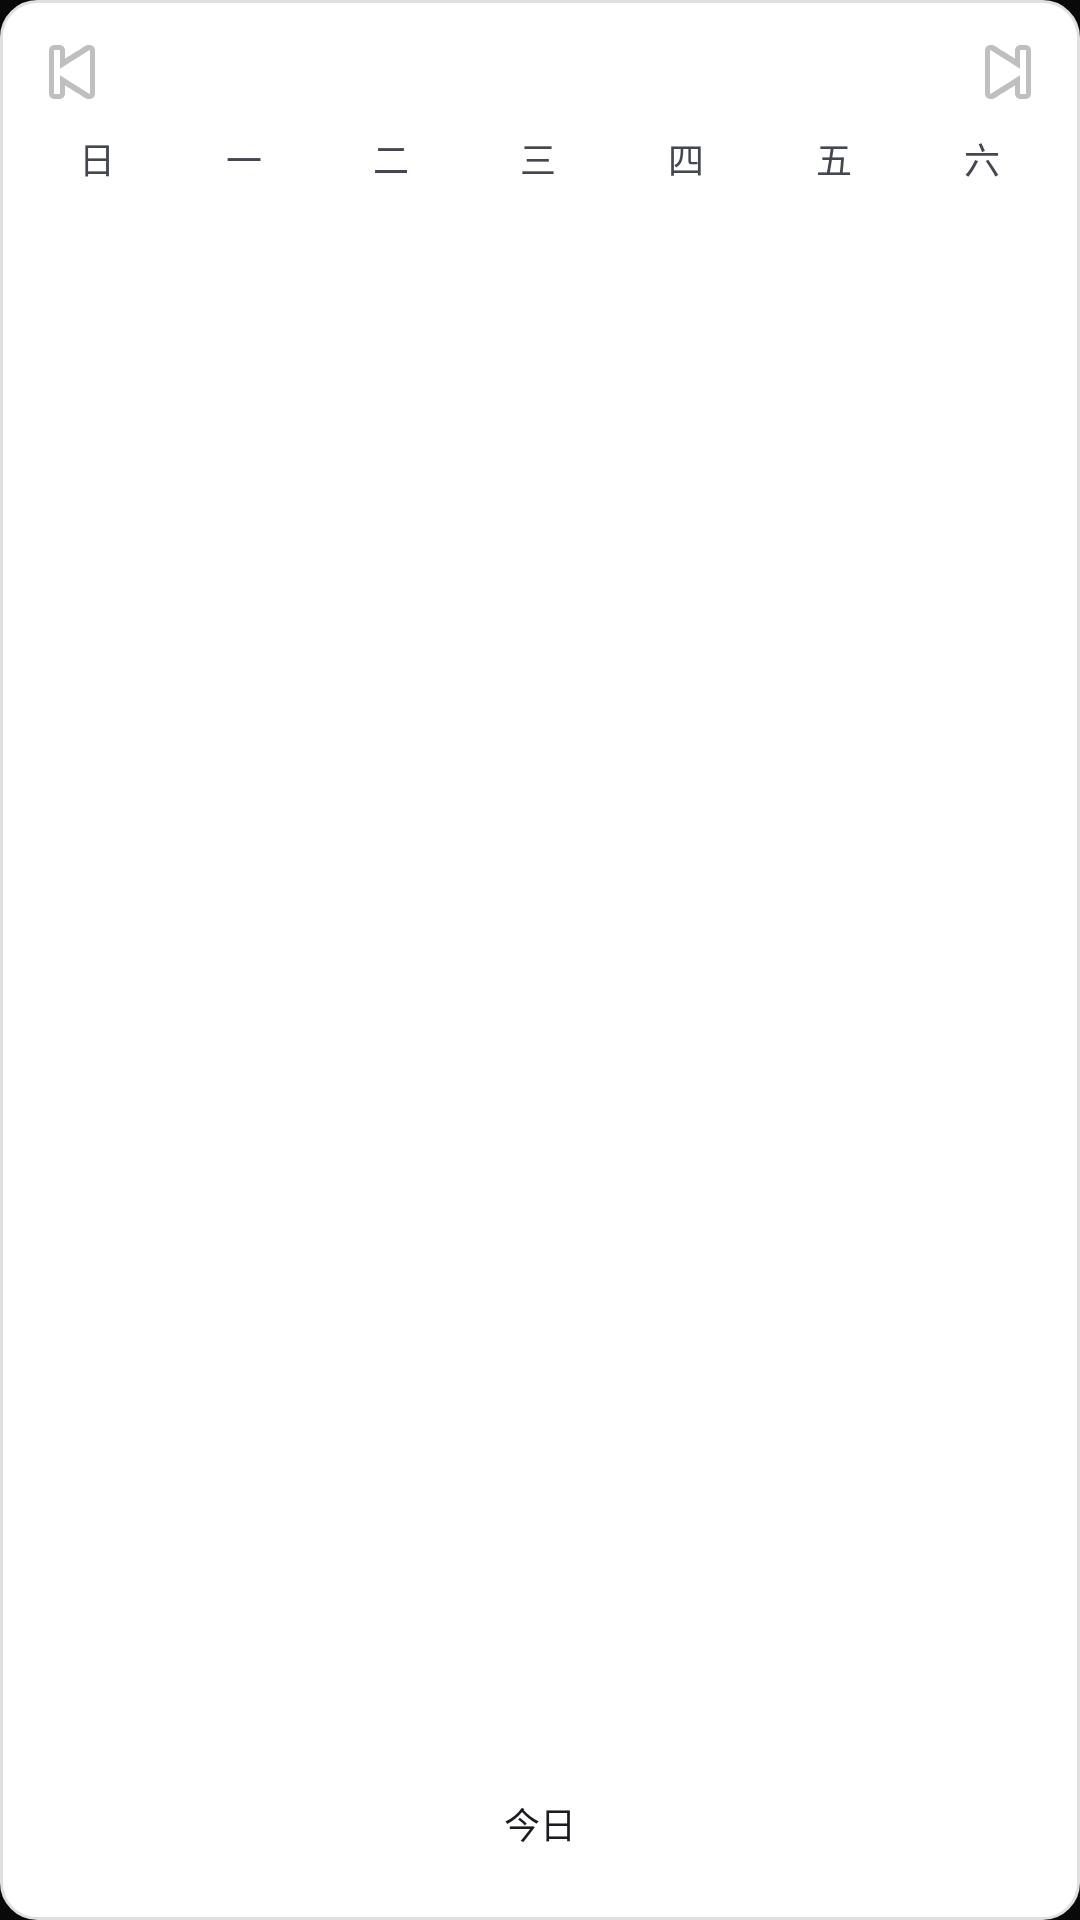

Screen size 1080w x 1920h. Icon name, then its box in pixels as (x1, y1, x2, y2):
上月: (49, 45, 95, 99)
下月: (985, 45, 1031, 99)
